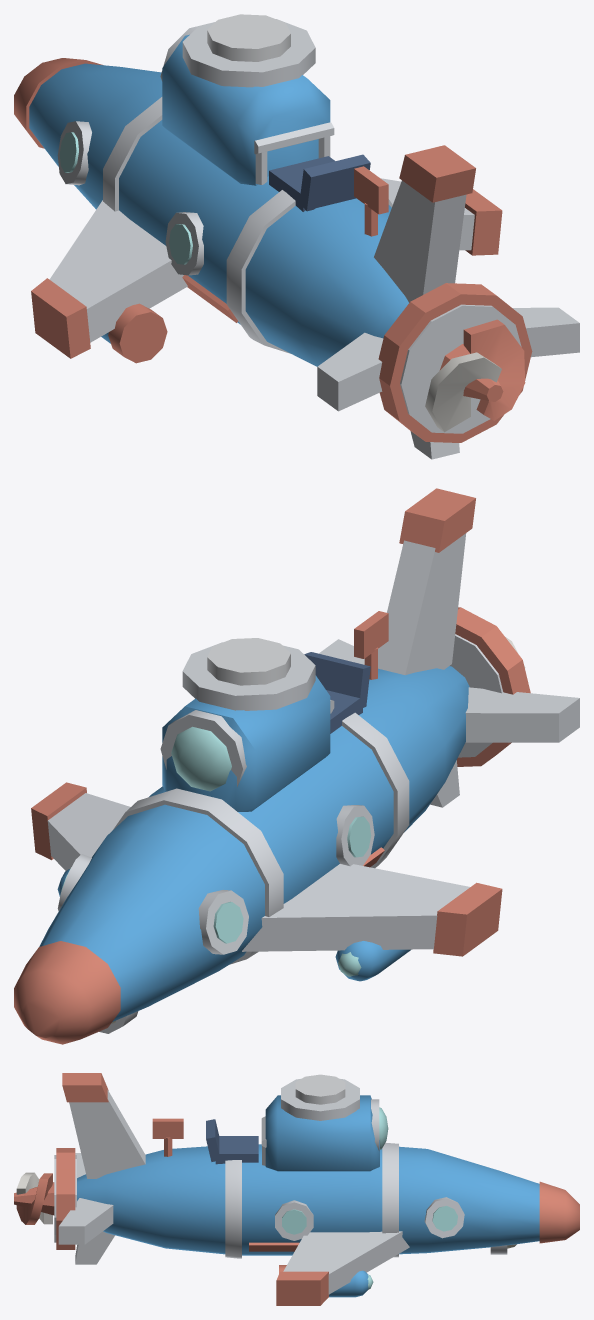
File: BlueStreak.glb
3 renders of one model, top to bottom at view 1: azimuth 30°, elevation 25°; view 2: azimuth 150°, elevation 25°; view 3: azimuth 270°, elevation 25°, orthographic. The views are drawn at different scales.
Parts seen in each view (by area): view 1: Hull, Prop, Seat, Hull_Glow; view 2: Hull, Hull_Glow, Seat; view 3: Hull, Prop, Seat, Hull_Glow.
Boxes of the visible parts, x1=… form: Hull: x1=14, y1=14, x2=579, y2=459; Prop: x1=425, y1=319, x2=525, y2=432; Seat: x1=254, y1=122, x2=370, y2=211; Hull_Glow: x1=59, y1=132, x2=192, y2=264; Hull: x1=14, y1=488, x2=579, y2=1044; Hull_Glow: x1=61, y1=726, x2=371, y2=976; Seat: x1=304, y1=652, x2=370, y2=733; Hull: x1=54, y1=1073, x2=579, y2=1305; Prop: x1=14, y1=1172, x2=54, y2=1224; Seat: x1=206, y1=1116, x2=266, y2=1165; Hull_Glow: x1=282, y1=1107, x2=457, y2=1289.
Bounding box in the file's own units: 26.36 × 16.8 × 47.55.
